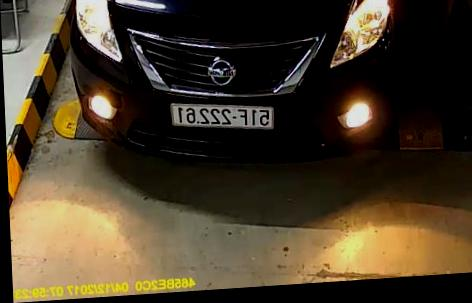License_Plate: (169, 100, 277, 139)
